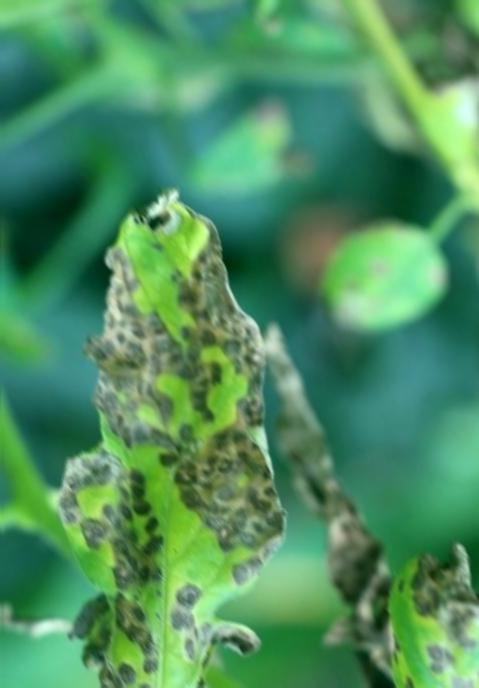Tomato leaf bacterial spot: (57, 177, 300, 688), (369, 538, 479, 688)
